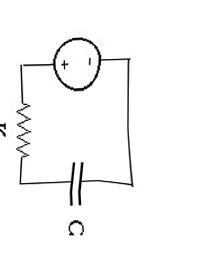Battery: (41, 29, 108, 98)
